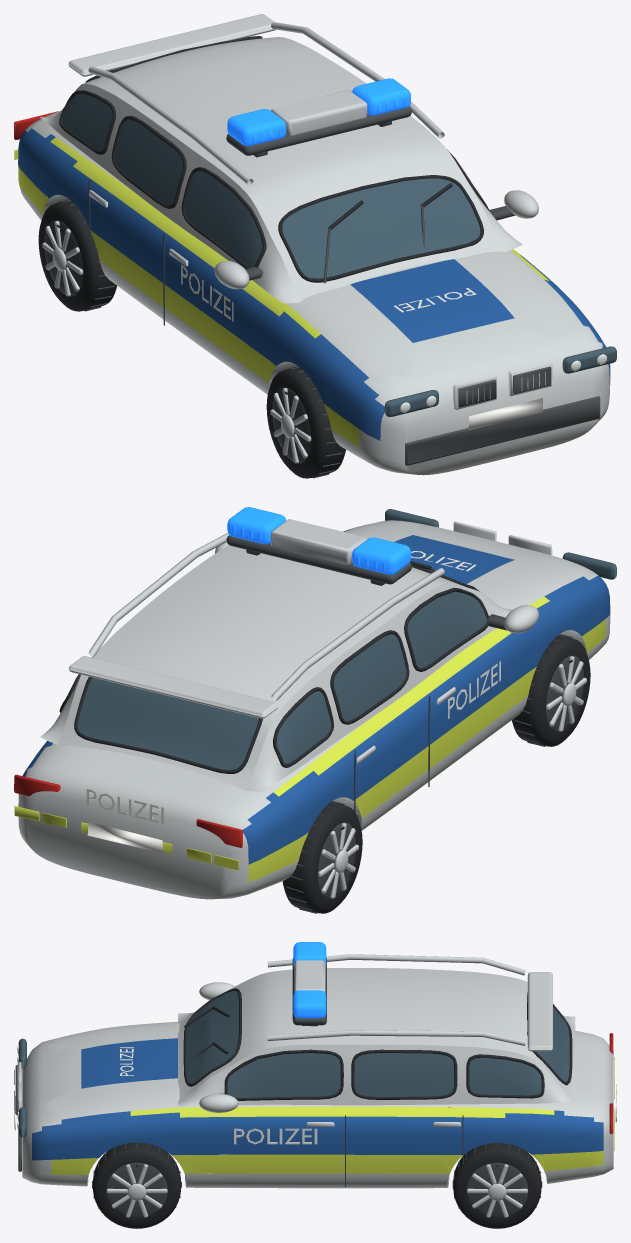
Rendered from police-estate.glb.
3 views of the same model, one above another, from view 1: azimuth 30°, elevation 25°; view 2: azimuth 150°, elevation 25°; view 3: azimuth 270°, elevation 25° (orthographic). The views are drawn at different scales.
Parts seen in each view (by area): view 1: police-estate_mesh, police-estate__Wheel_FL_mesh, police-estate__Wheel_RL_mesh; view 2: police-estate_mesh, police-estate__Wheel_RL_mesh, police-estate__Wheel_FL_mesh; view 3: police-estate_mesh, police-estate__Wheel_FR_mesh, police-estate__Wheel_RR_mesh.
Boxes of the visible parts, box(x1,y1,x2,y2) form: police-estate_mesh: box(14, 14, 616, 475); police-estate__Wheel_FL_mesh: box(266, 365, 345, 478); police-estate__Wheel_RL_mesh: box(38, 199, 116, 311); police-estate_mesh: box(14, 507, 616, 899); police-estate__Wheel_RL_mesh: box(282, 801, 362, 913); police-estate__Wheel_FL_mesh: box(512, 634, 590, 746); police-estate_mesh: box(14, 942, 616, 1188); police-estate__Wheel_FR_mesh: box(92, 1142, 181, 1228); police-estate__Wheel_RR_mesh: box(452, 1143, 542, 1228).
Size of the model in its own units: 2.17 by 1.72 by 4.57.
